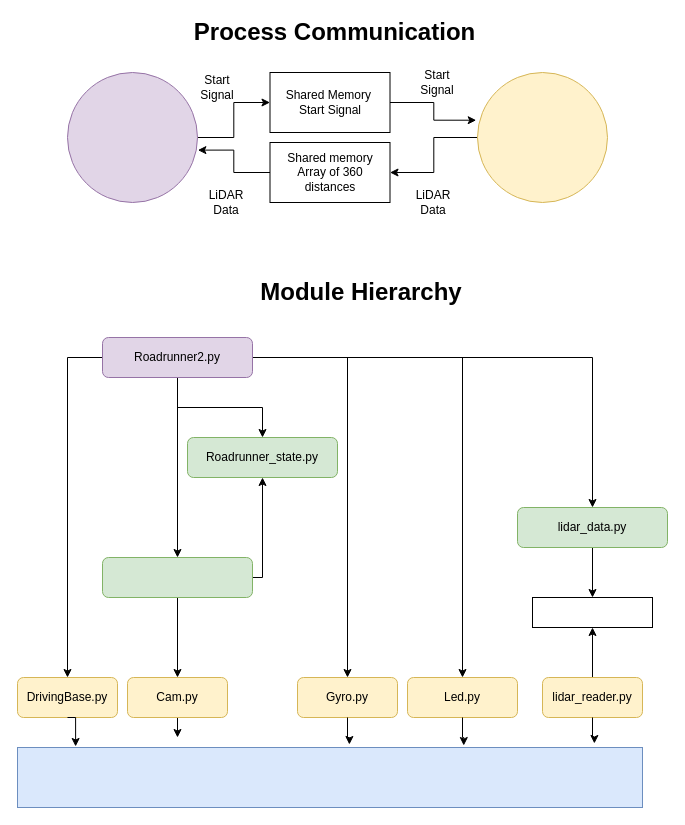
Image size: 685x825. Some labels were removed from this diagram. The shapes that lost their labels are listed below. From the top down, each one's box as (x1, y1, x2, y2) in pixels, then its label:
(66, 72, 198, 202): Main Process Roadrunner2
(476, 72, 608, 202): LiDAR Process lidar_reader
(102, 556, 252, 598): Cam_moduls_contours.py
(532, 596, 652, 628): Shared Memory
(16, 746, 642, 808): Operating System, Hardware manufacturer libraries
